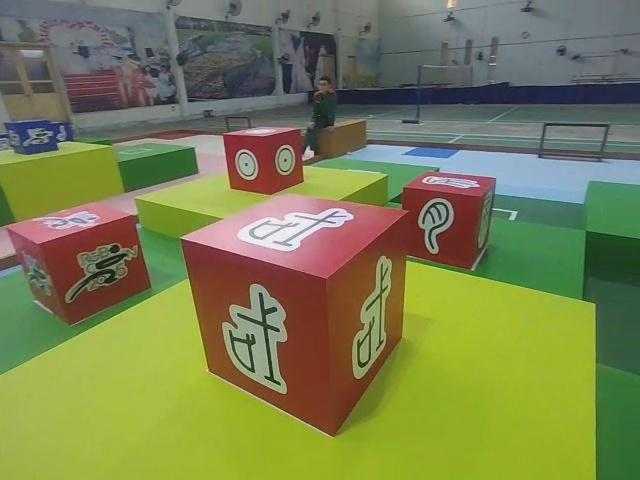R1: (3, 199, 153, 325)
R2 Fake: (398, 170, 501, 268)
R2 Real: (178, 191, 411, 440), (223, 121, 307, 193)
